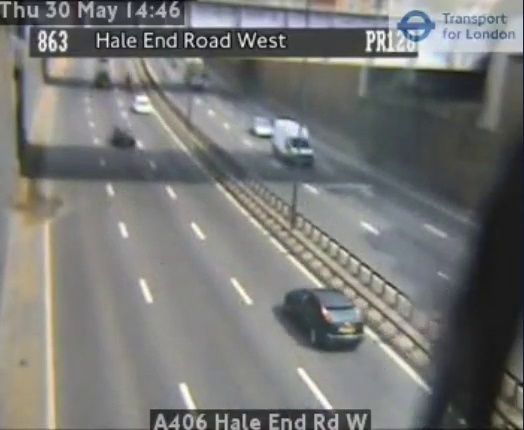car: (287, 288, 365, 348)
